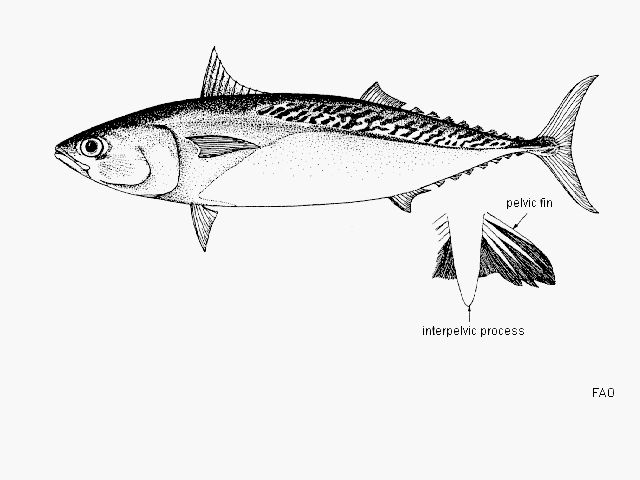fish: (54, 47, 602, 251)
